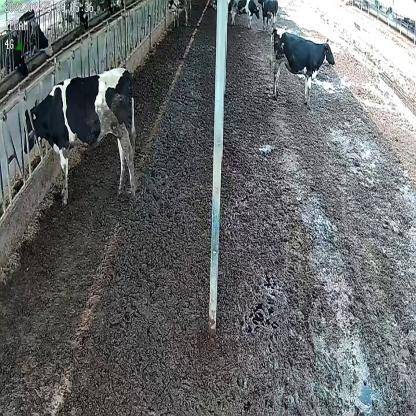cow: (23, 67, 136, 200), (270, 28, 334, 108), (230, 0, 260, 34), (258, 0, 279, 32)
